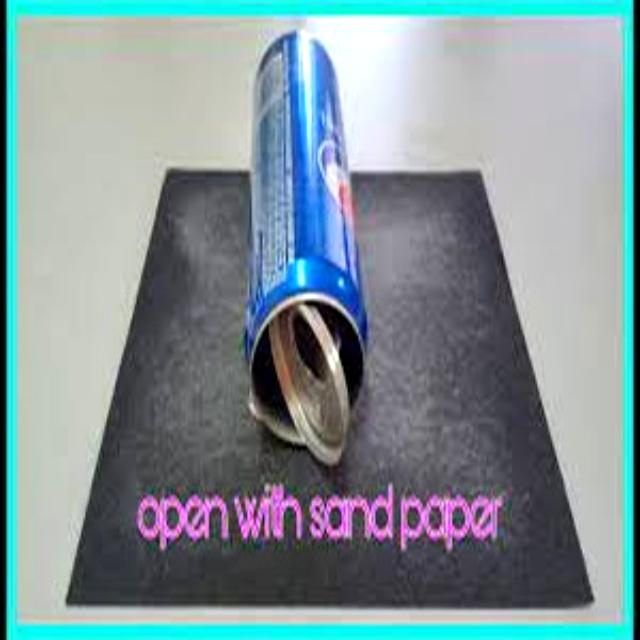Metal: (234, 32, 366, 452)
